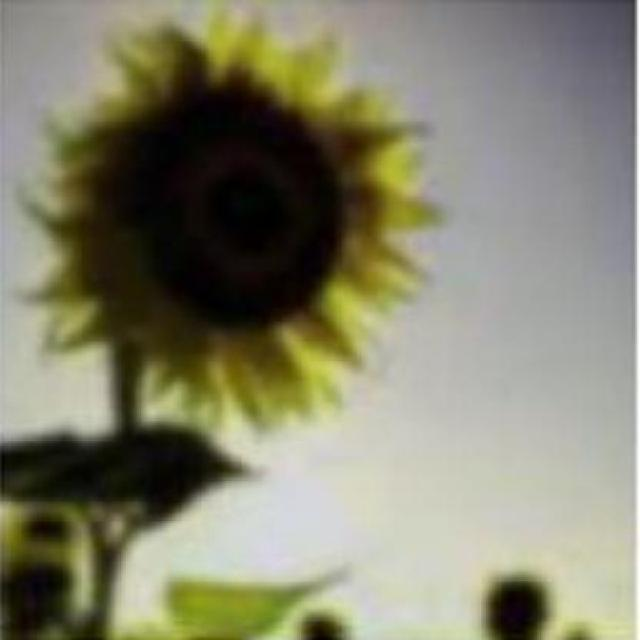sunflower: (23, 16, 435, 439)
